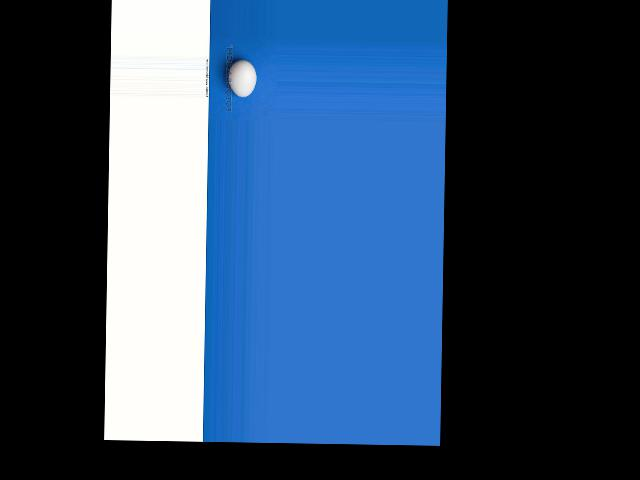egg: (227, 59, 256, 97)
